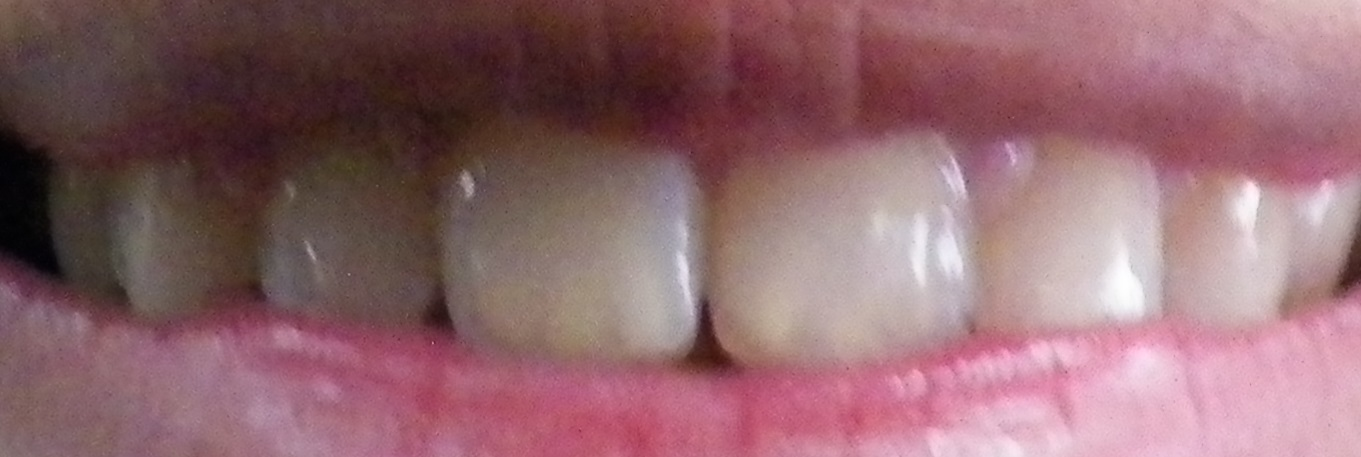boca: (26, 63, 1345, 361)
